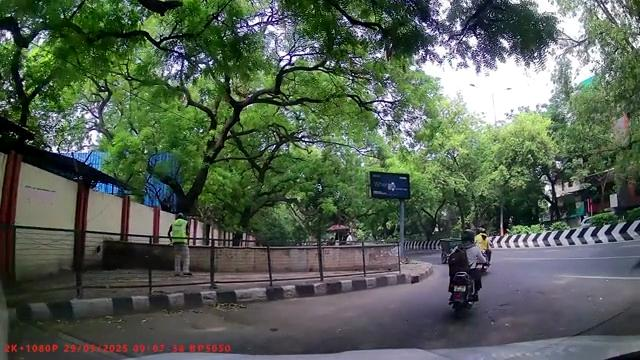motorcycle_with_helmet: (447, 228, 488, 317)
